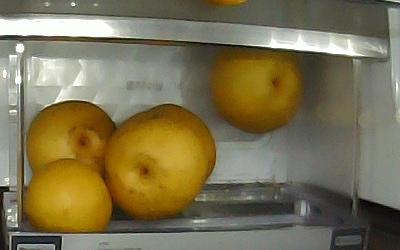pear: (107, 117, 207, 219), (26, 101, 120, 187), (212, 50, 303, 133), (25, 161, 112, 232), (146, 104, 216, 183)
